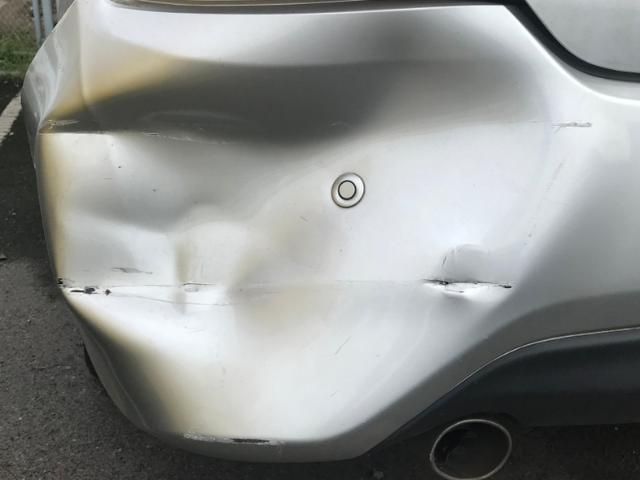Bumper: (51, 19, 587, 467)
